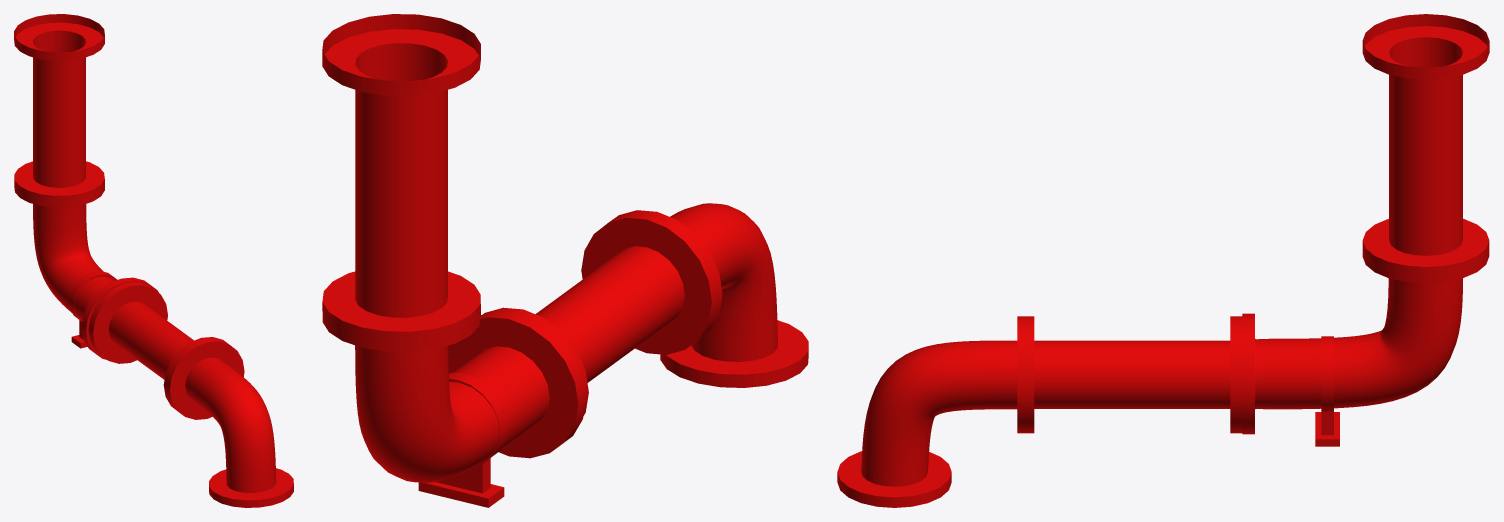
Rendered from Lower Pipes.fbx.
3 renders of one model, left to right at view 1: azimuth 30°, elevation 25°; view 2: azimuth 150°, elevation 25°; view 3: azimuth 270°, elevation 25°, orthographic. The views are drawn at different scales.
Parts seen in each view (by area): view 1: SmartCombine_2; view 2: SmartCombine_2; view 3: SmartCombine_2.
Boxes of the visible parts, x1,y1,x2,y2 form: SmartCombine_2: [14, 14, 293, 507]; SmartCombine_2: [322, 14, 808, 507]; SmartCombine_2: [837, 14, 1489, 507].
Bounding box in the file's own units: 12.93 × 49.42 × 66.21.
